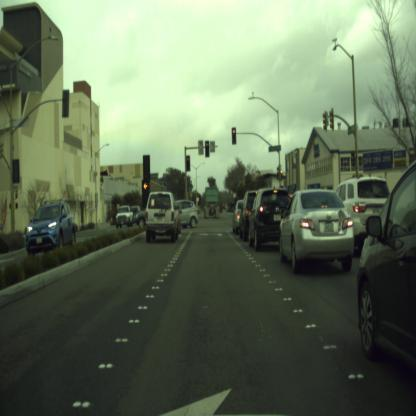Red: (232, 127, 236, 144), (280, 168, 282, 179)
RedLeft: (141, 180, 150, 206), (204, 141, 210, 157), (186, 155, 190, 171)
